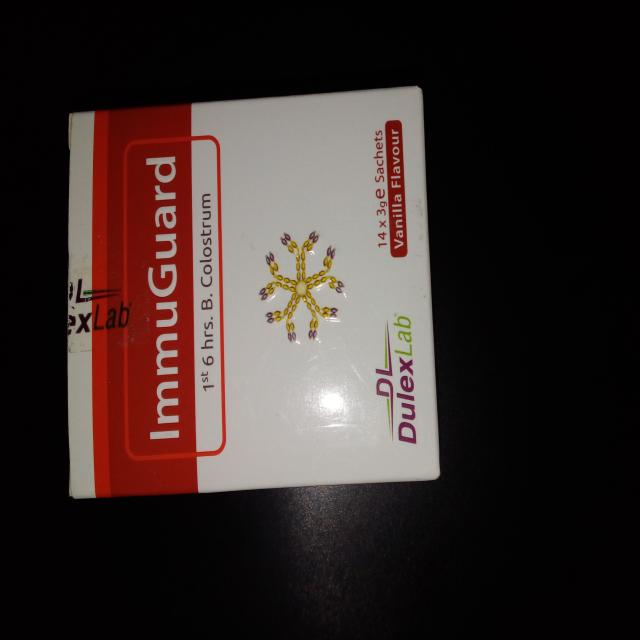Medicine: (65, 84, 443, 501)
